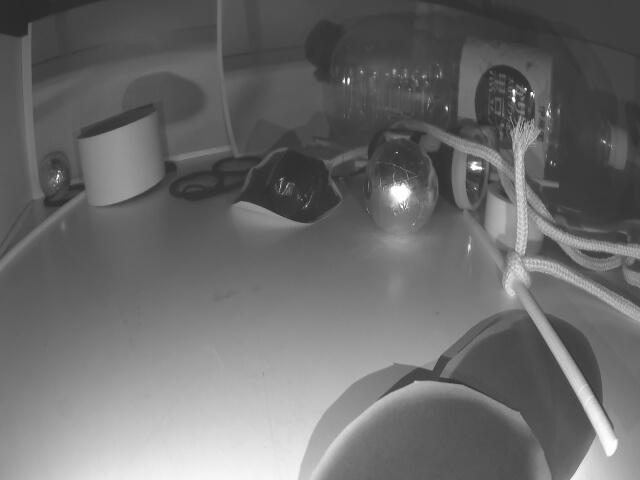Live: (364, 140, 430, 221), (40, 153, 71, 195)
